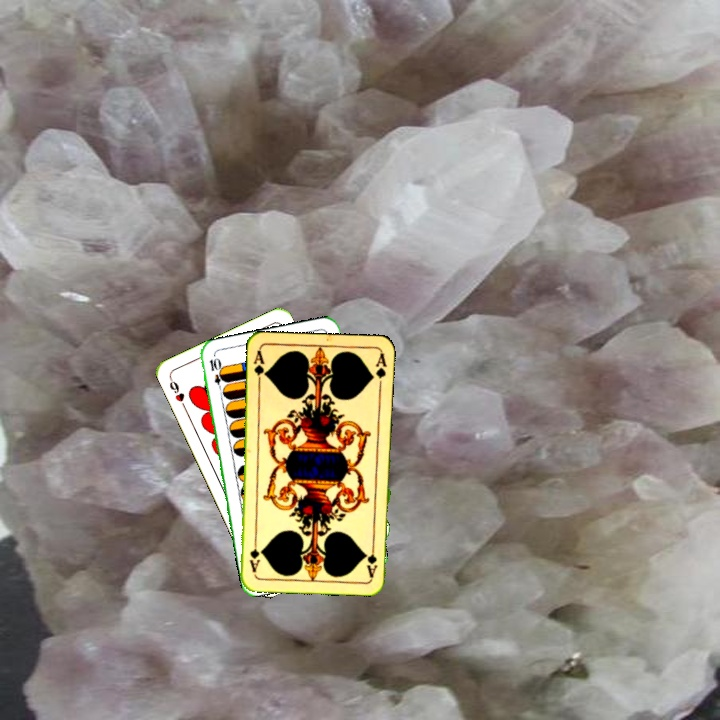E10: (206, 354, 226, 394)
GA: (249, 347, 269, 387), (364, 539, 380, 580)
H9: (165, 374, 189, 412)
